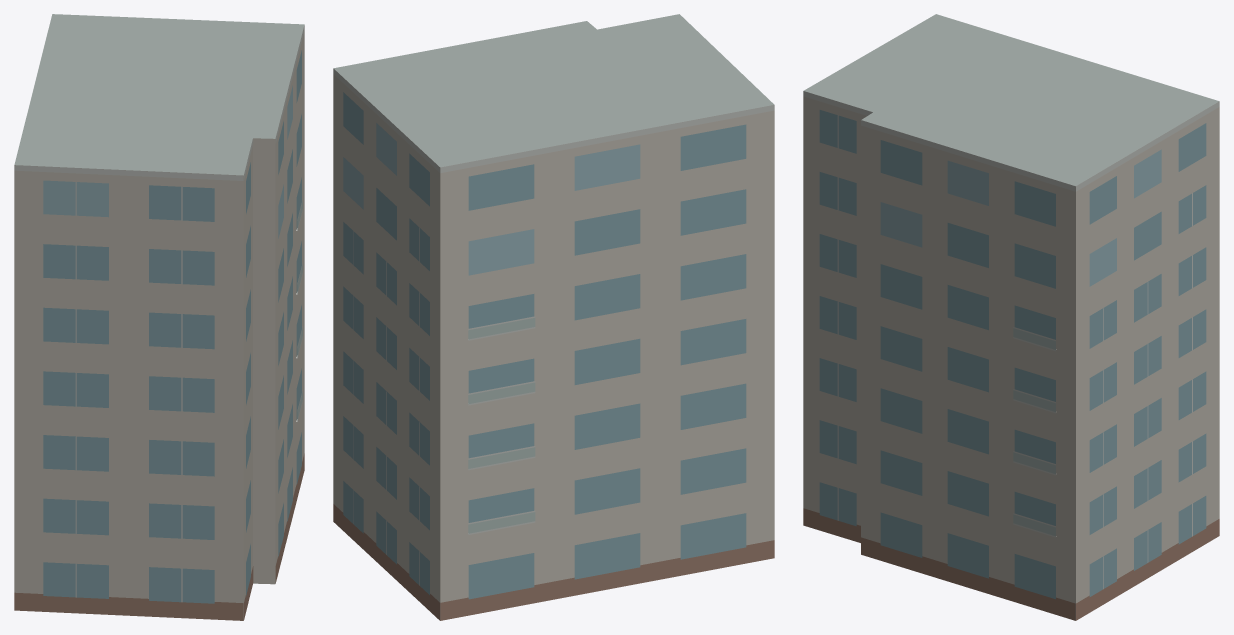
Rendered from survey-upis-32704568.glb.
3 views of the same model, side by side, from view 1: azimuth 30°, elevation 25°; view 2: azimuth 150°, elevation 25°; view 3: azimuth 270°, elevation 25° (orthographic). The views are drawn at different scales.
Parts seen in each view (by area): view 1: survey-upis-32704568.tmp; view 2: survey-upis-32704568.tmp; view 3: survey-upis-32704568.tmp.
Boxes of the visible parts, left/top/right/bottom form: survey-upis-32704568.tmp: left=14, top=14, right=304, bottom=620; survey-upis-32704568.tmp: left=333, top=14, right=774, bottom=620; survey-upis-32704568.tmp: left=803, top=14, right=1219, bottom=620.
Size of the model in its own units: 16.42 by 19.3 by 16.76.
